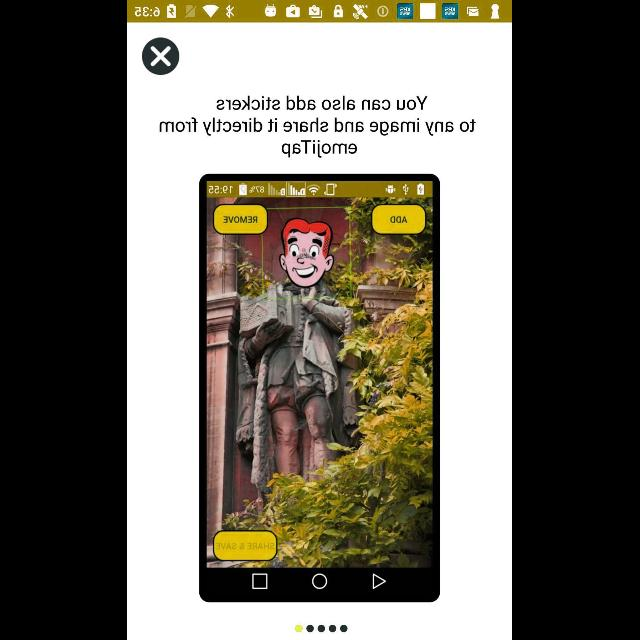icon: (142, 38, 180, 76)
image: (200, 174, 440, 602)
pageindicator: (296, 625, 348, 633)
text: (160, 95, 478, 158)
uppertaskbar: (128, 1, 512, 23)
